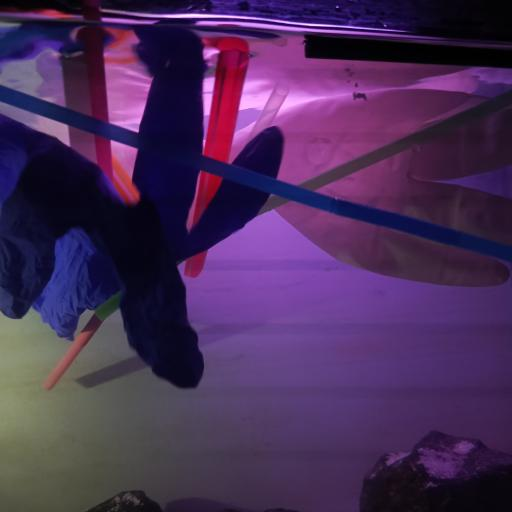glove: (0, 29, 284, 388), (234, 86, 512, 288)
plastic_straw: (0, 84, 512, 265), (254, 86, 512, 217), (184, 48, 250, 280), (78, 28, 114, 182), (42, 316, 104, 392), (60, 45, 98, 168), (246, 85, 289, 143), (110, 152, 140, 205)
